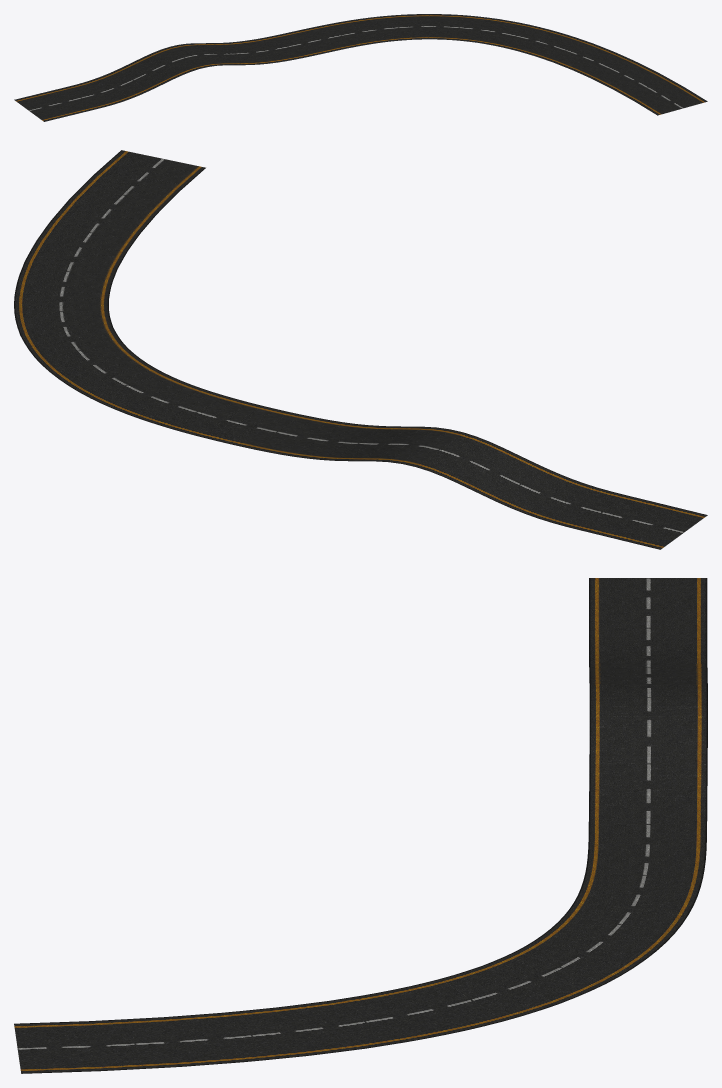
The picture shows the model from 3 angles, top to bottom: view 1: azimuth 30°, elevation 25°; view 2: azimuth 150°, elevation 25°; view 3: azimuth 270°, elevation 25°; orthographic projection. The views are drawn at different scales.
Visible parts, largest first — view 1: Plane; view 2: Plane; view 3: Plane.
Part boxes in pixels (bbox=[...]): Plane: bbox=[14, 14, 707, 121]; Plane: bbox=[14, 150, 707, 549]; Plane: bbox=[14, 578, 707, 1073].
Bounding box in the file's own units: 79.8 × 2.2 × 47.22.
1 material, 1 textured.
